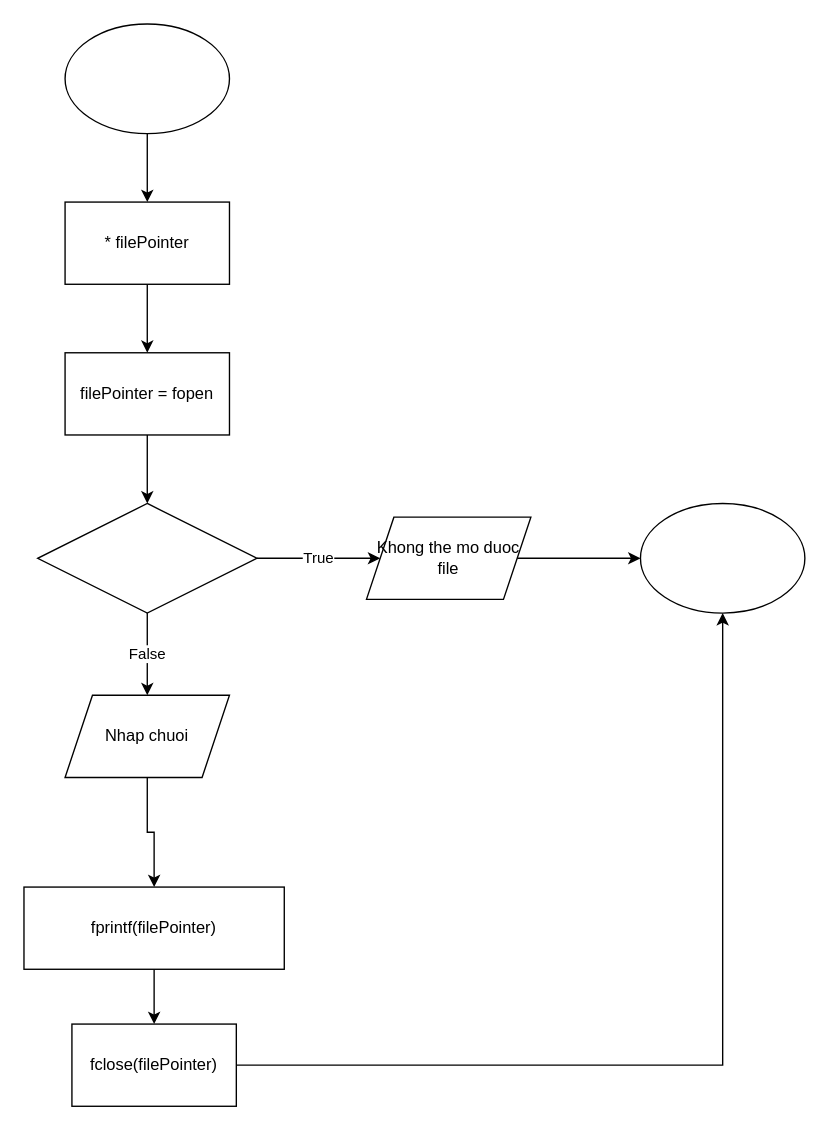
This 829x1130 diagram has some shape labels left out. The shapes that lost their labels are listed below. From the top down, each one's box as (x1, y1, x2, y2) in pixels, then its label:
(64, 23, 229, 134): Start
(36, 502, 257, 613): filePointer == NULL
(639, 502, 805, 613): End
